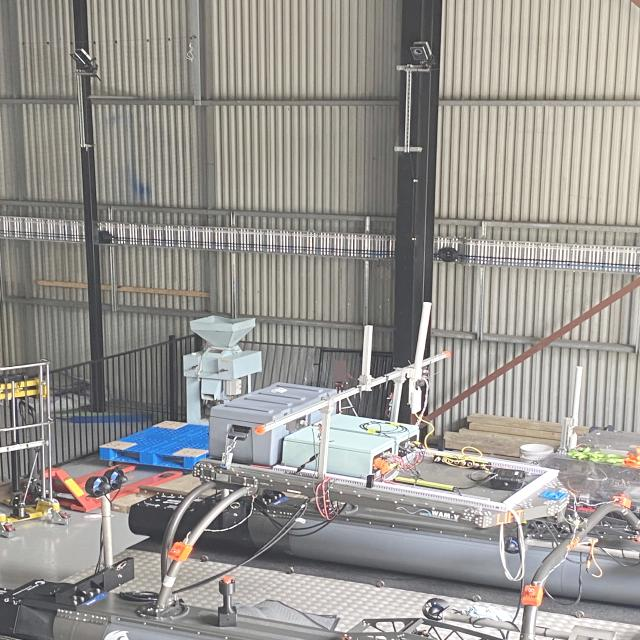matrix: (329, 359, 350, 383)
